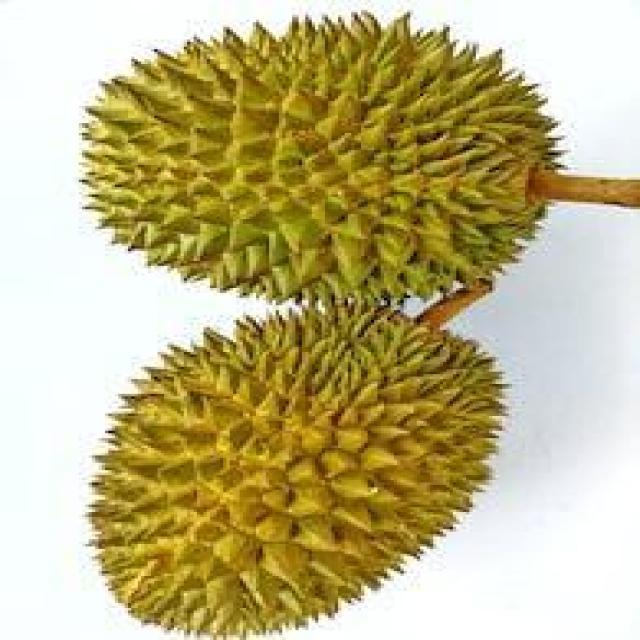mature: (90, 308, 503, 637)
